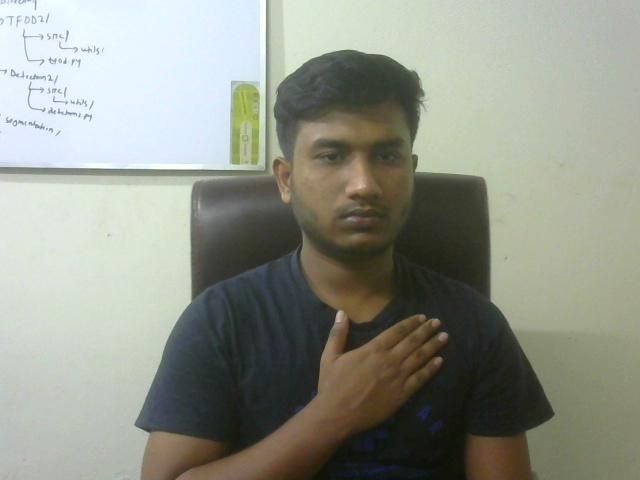Please: (303, 284, 466, 441)
